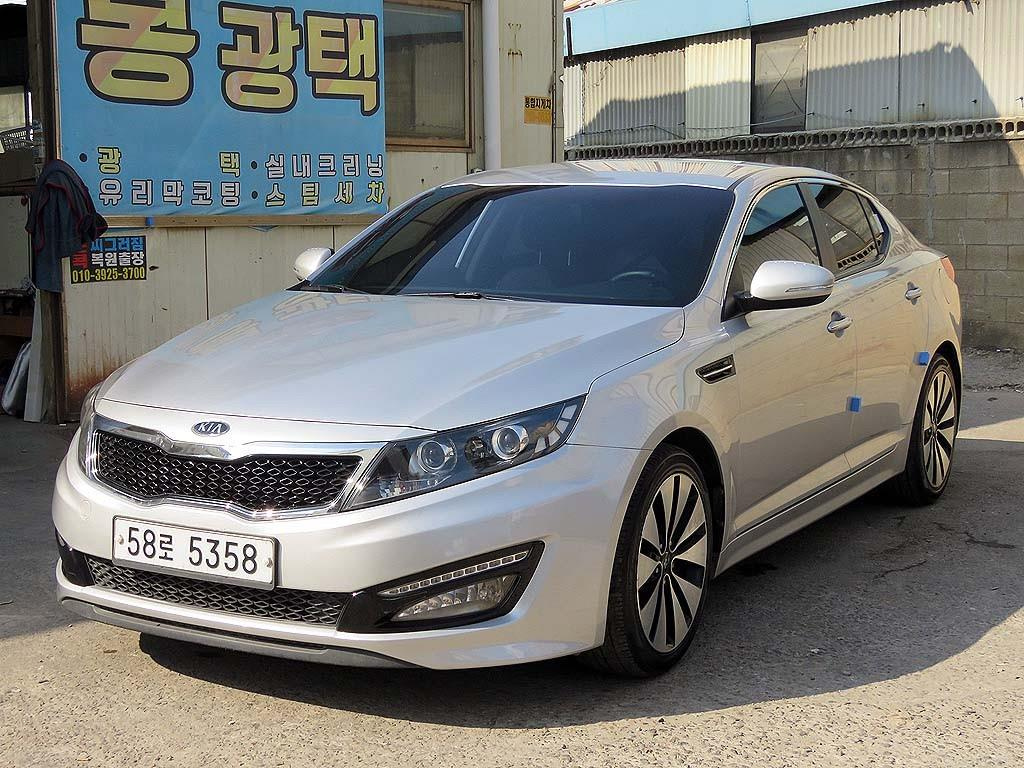plate: (114, 518, 274, 583)
